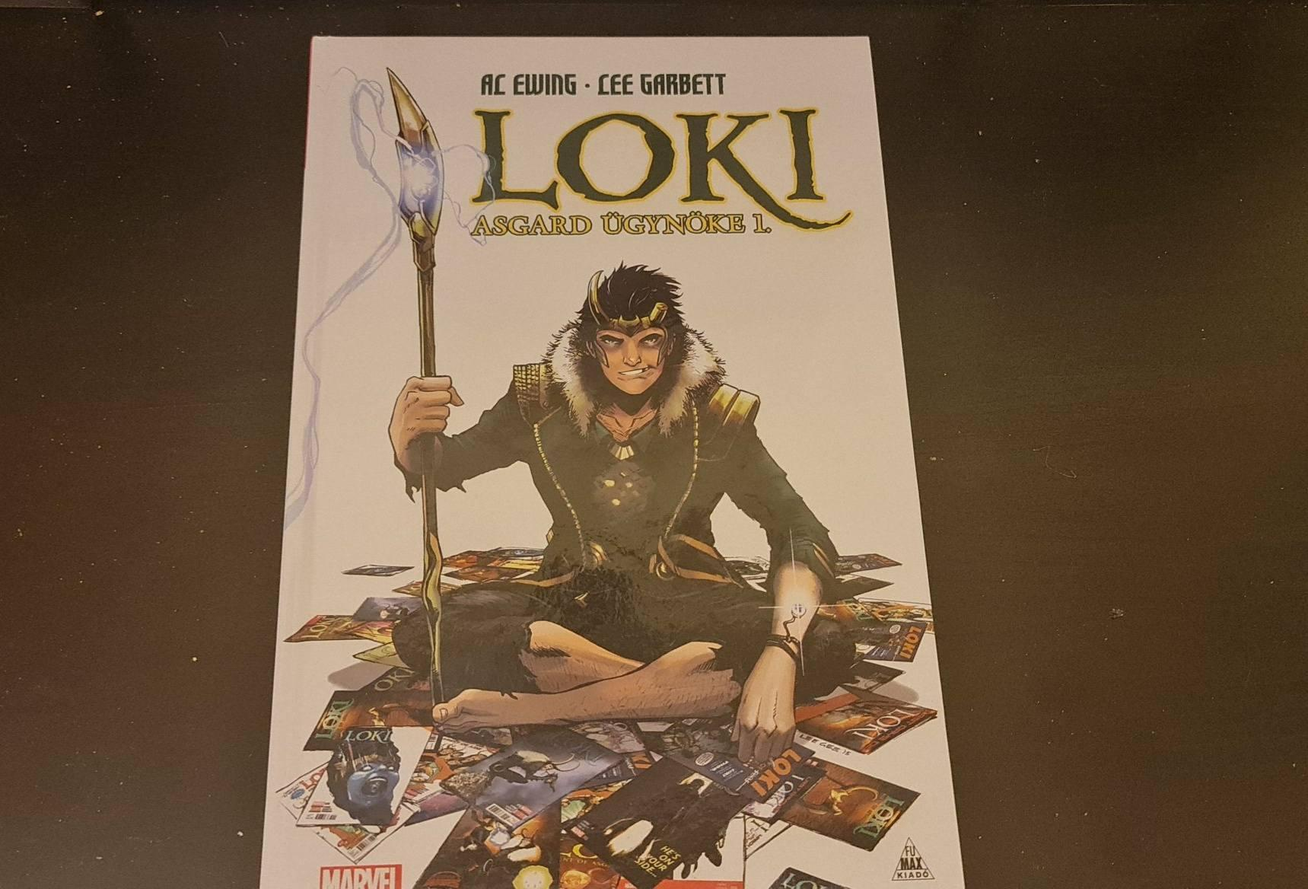comic: (262, 38, 962, 888)
